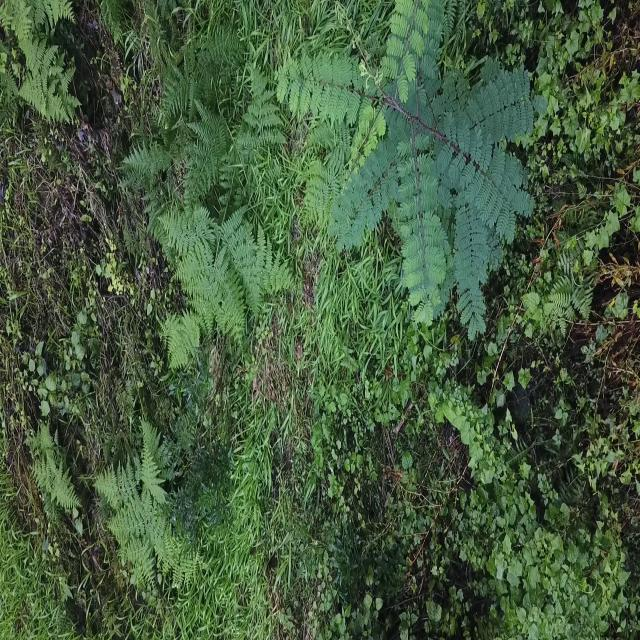Mysore-Thorn-Weed: (280, 0, 541, 335)
